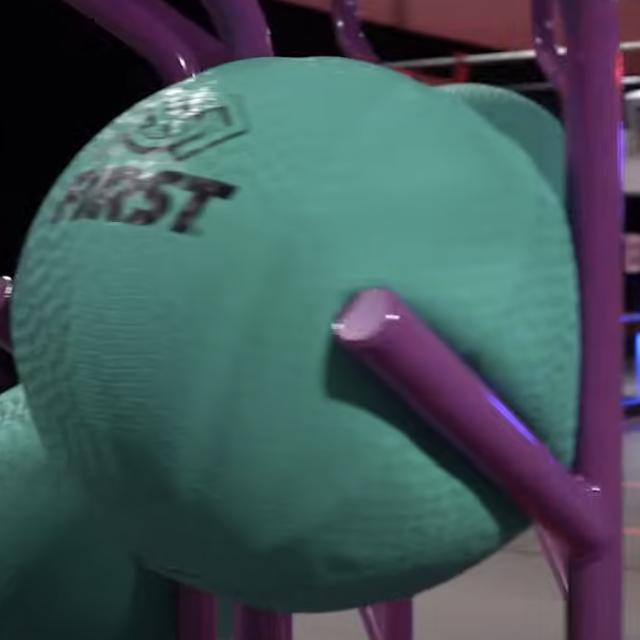Algae: (13, 57, 584, 614), (0, 385, 237, 640), (433, 86, 562, 204)
Reef: (337, 286, 603, 550), (536, 523, 570, 599), (355, 606, 381, 639)
